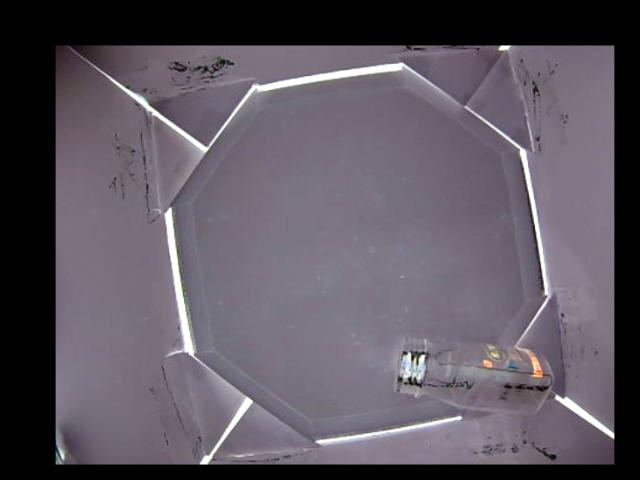Bottle: (391, 337, 555, 417)
